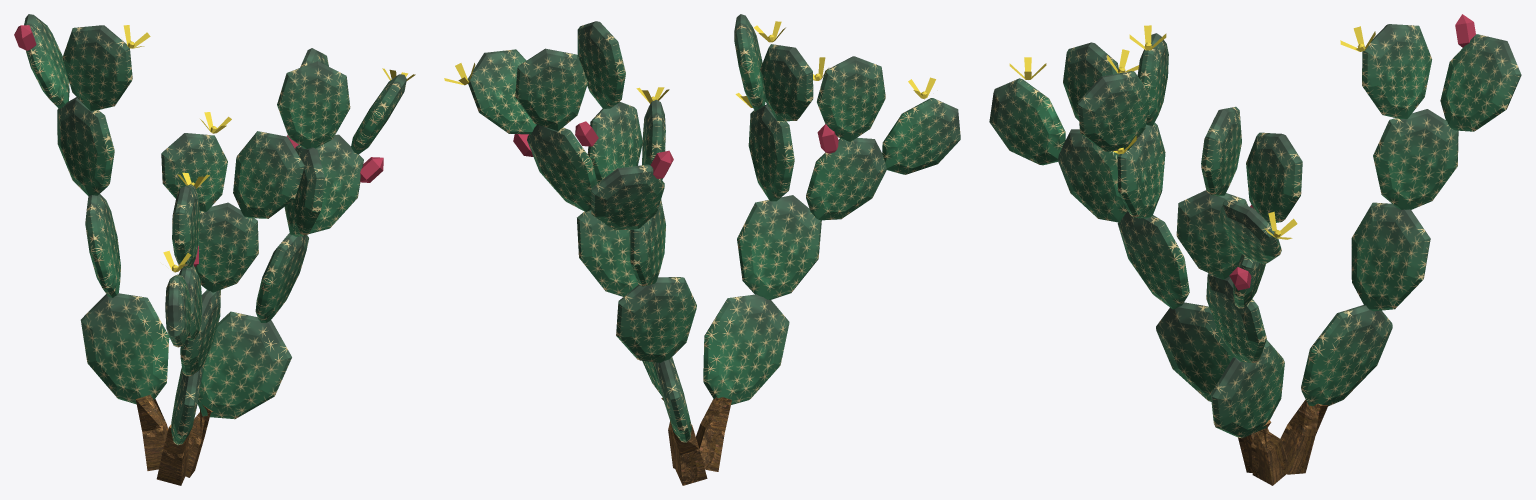
The model's file is prickly_pear_v02_LOD1.glb.
3 views of the same model, side by side, from view 1: azimuth 30°, elevation 25°; view 2: azimuth 150°, elevation 25°; view 3: azimuth 270°, elevation 25° (orthographic). The views are drawn at different scales.
Visible parts, largest first — view 1: prickly_pear_v02_LOD1; view 2: prickly_pear_v02_LOD1; view 3: prickly_pear_v02_LOD1.
Boxes of the visible parts, <box> form: prickly_pear_v02_LOD1: <box>14,14,415,485</box>; prickly_pear_v02_LOD1: <box>444,14,960,485</box>; prickly_pear_v02_LOD1: <box>989,14,1521,485</box>.
Size of the model in its own units: 0.8028 by 0.85 by 0.9243.
Materials: 4 (2 with a texture image).
